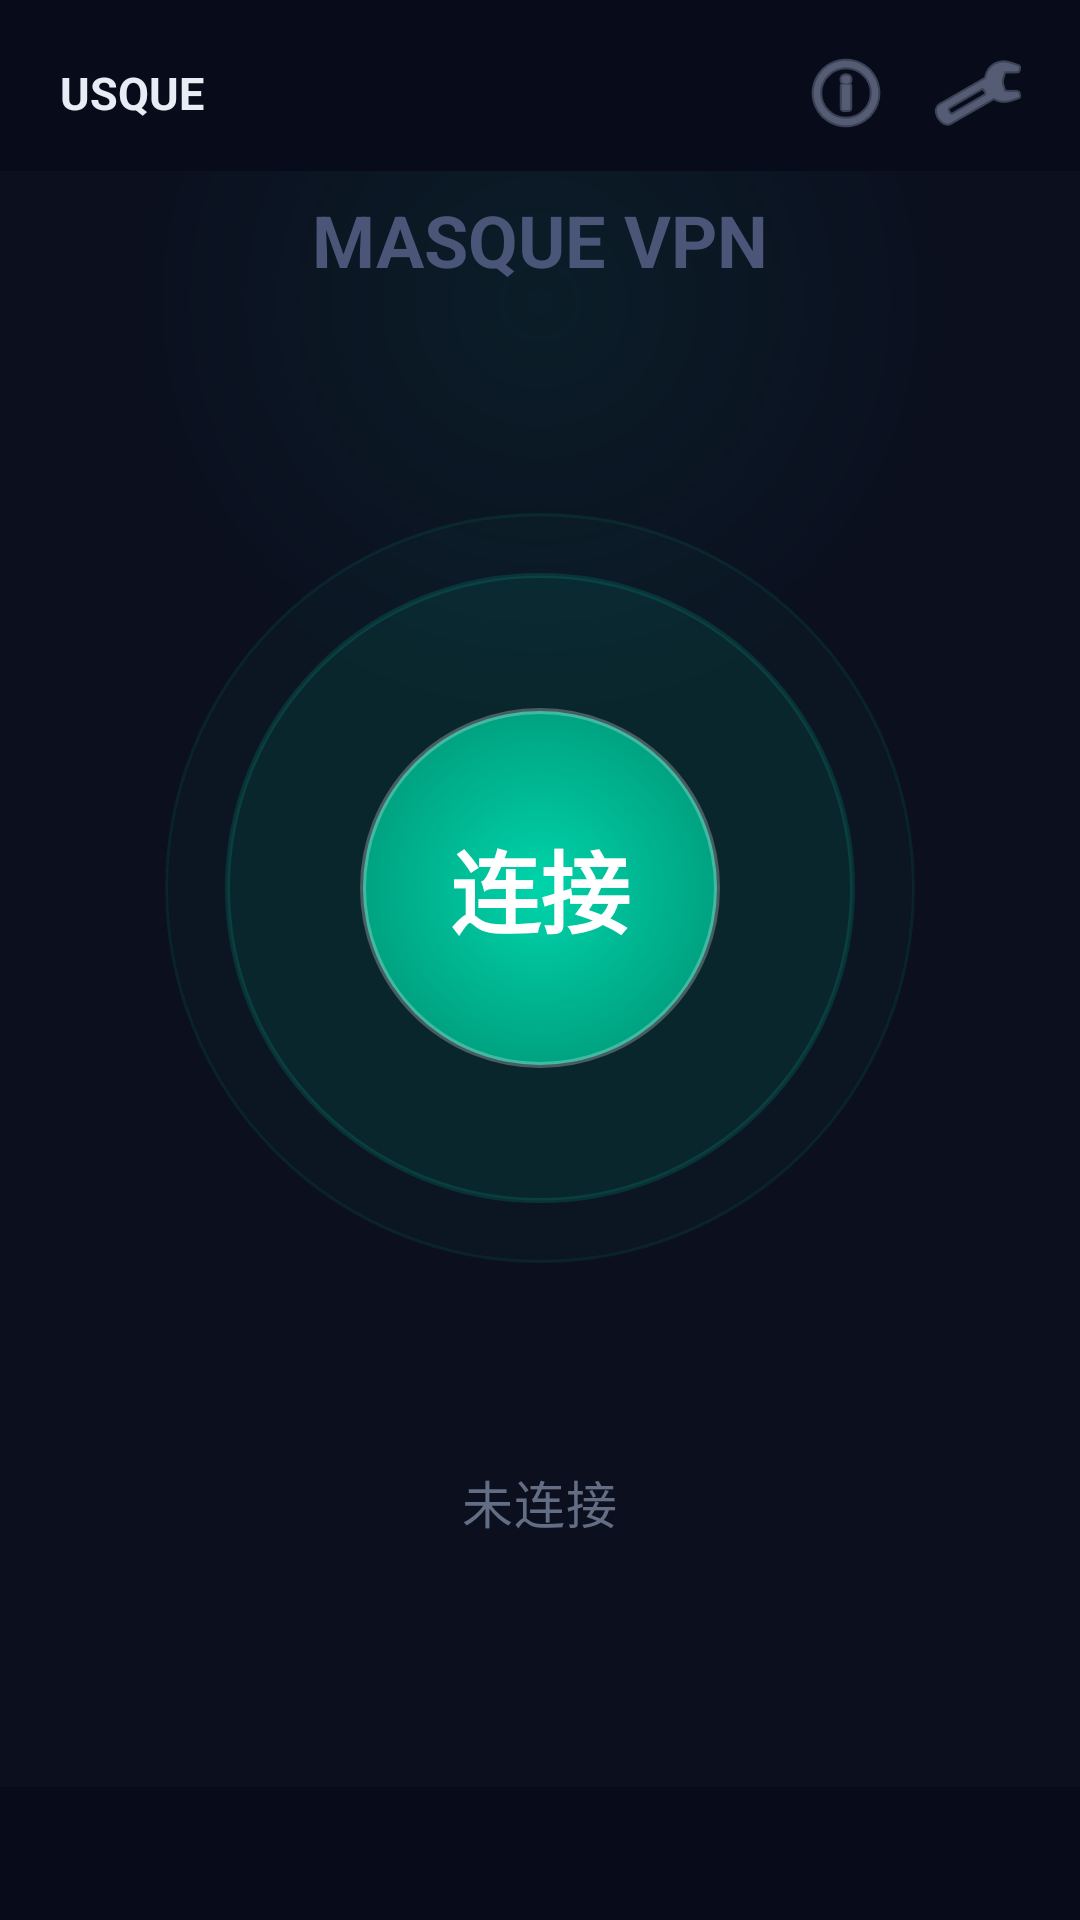

Screen size 1080px×1920px. Icon name, then its center in pixels as (x,y):
设置: (978,93)
